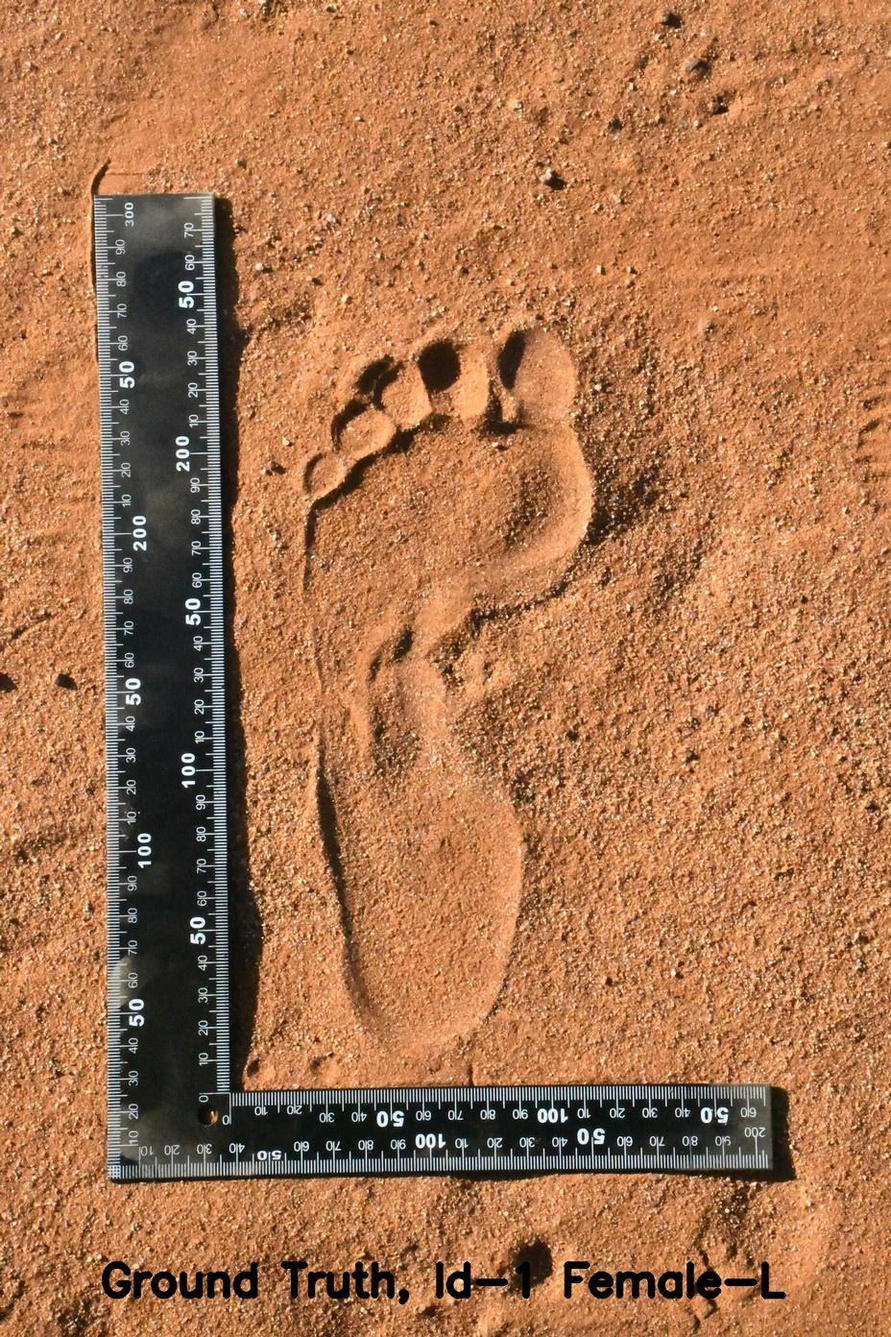human_footprint: (234, 221, 679, 1085)
